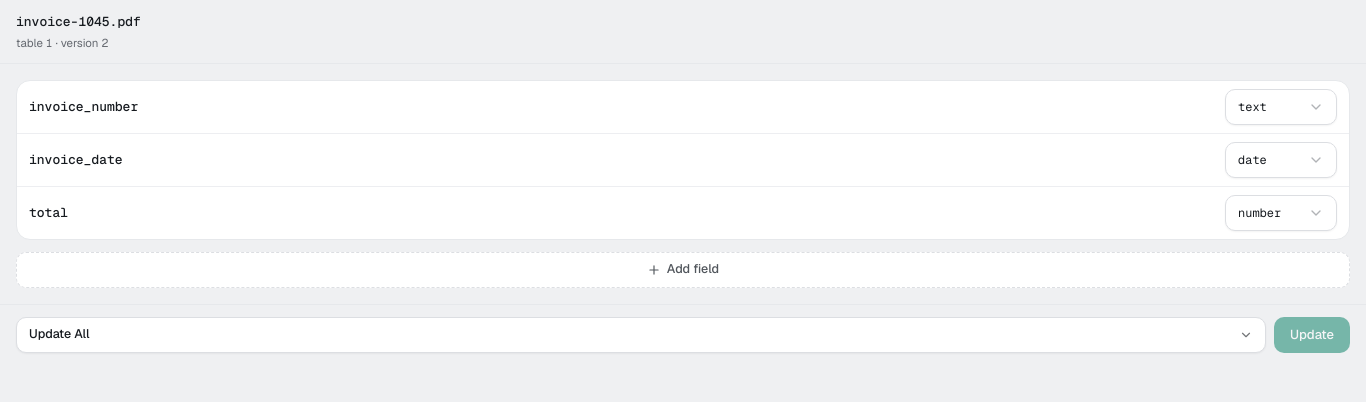
it: SchemaEditor › opens both writes the moment something changes
Expected: the button "Update All" is enabled, [16,317,1266,353]
Expected: the button with aria-label "Update —" is disabled, [1274,317,1350,353]
Click the dropdown named "Type of total": (1281, 213) [1225,195,1337,231]
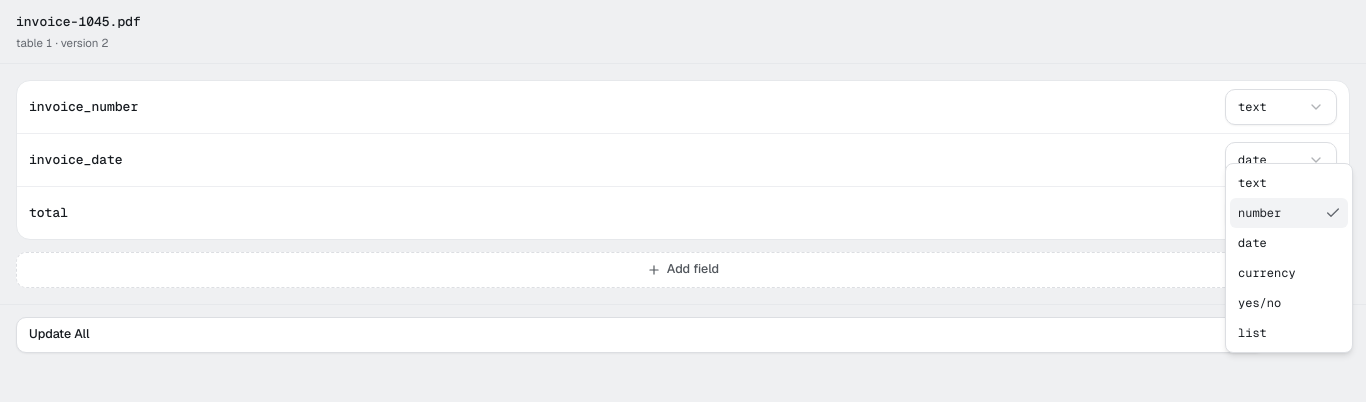
Click the option "currency": (1267, 273) [1238,265,1296,281]
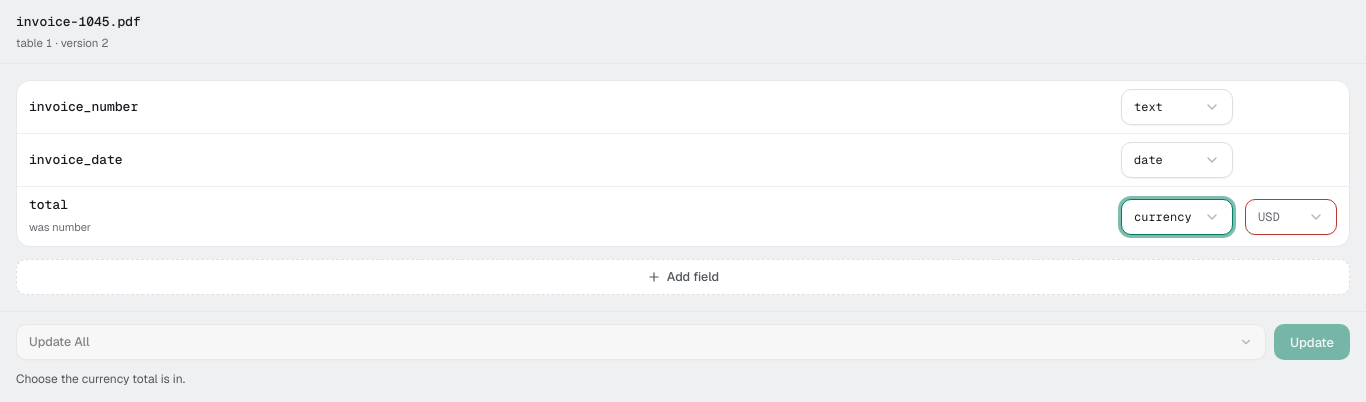
Click the dropdown named "Currency of total": (1291, 216) [1245,198,1337,234]
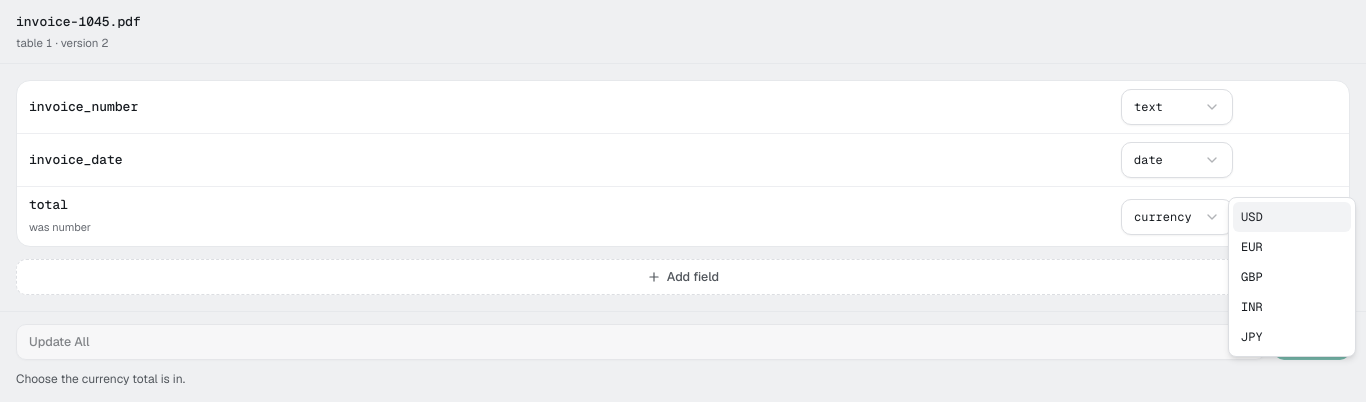
Click the option "USD": (1292, 216) [1233,202,1351,232]
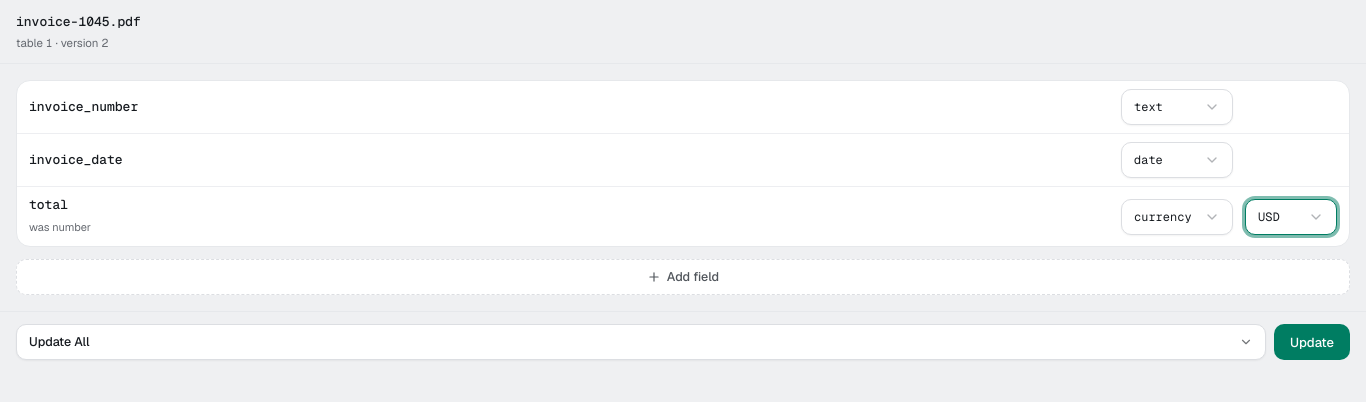
Now the button "Update All" is enabled, box [16,324,1266,360]
Now the button "Update" is enabled, box [1274,324,1350,360]
